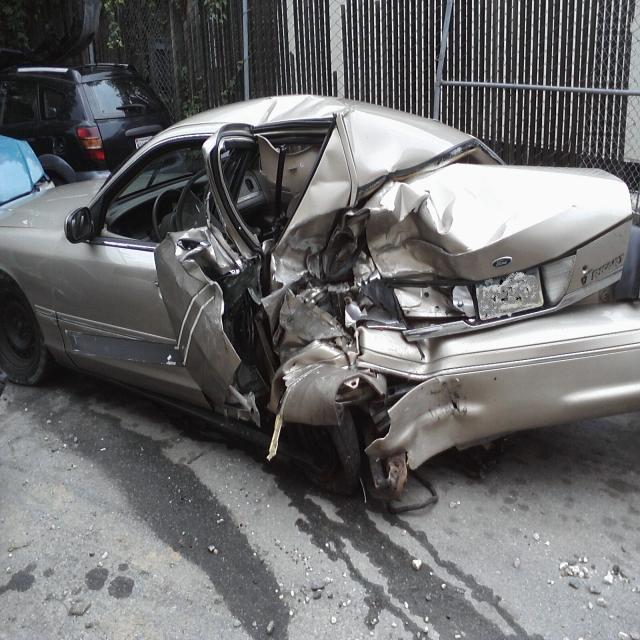Accident: (4, 87, 640, 523)
